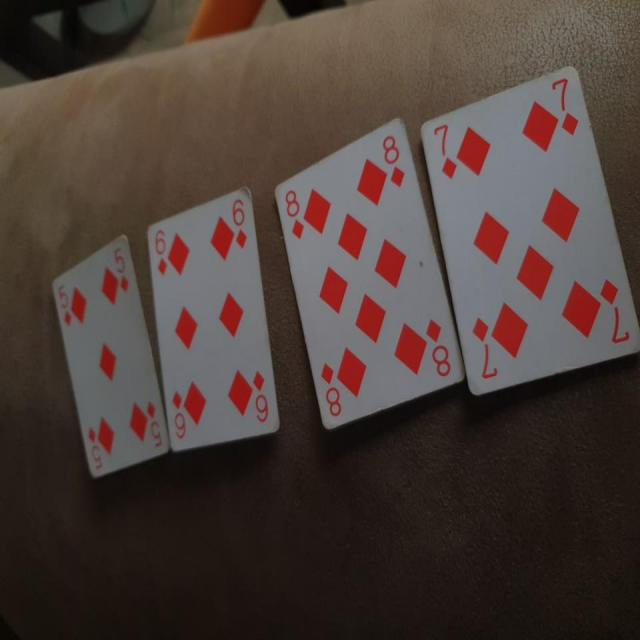5 Diamonds: (51, 228, 174, 481)
6 Diamonds: (146, 183, 283, 448)
7 Diamonds: (418, 64, 640, 395)
8 Diamonds: (272, 116, 464, 432)
